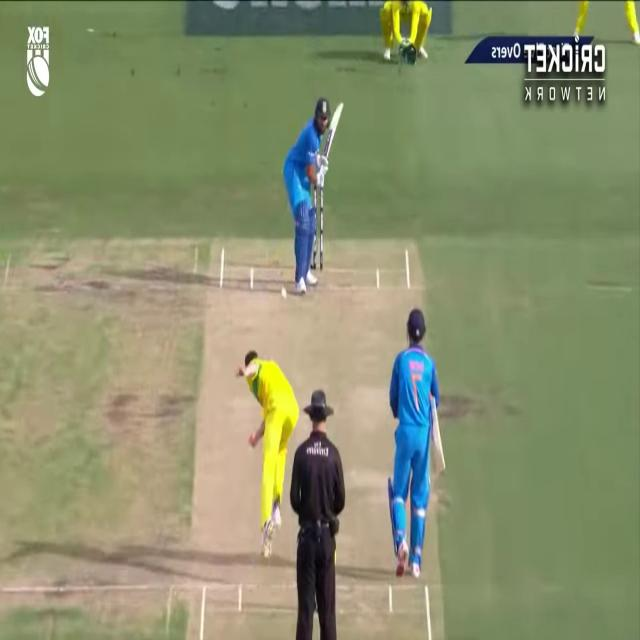ball: (280, 288, 288, 298)
stump: (313, 186, 323, 271)
